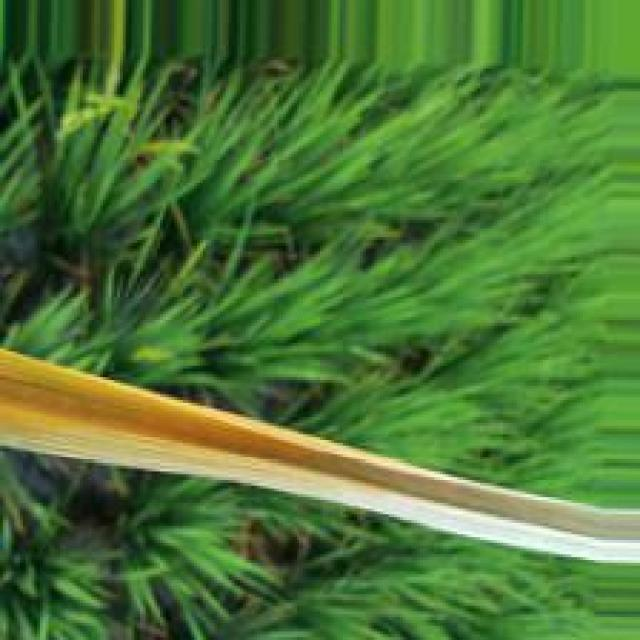Bacterial_Leaf_Blight: (0, 338, 483, 537)
